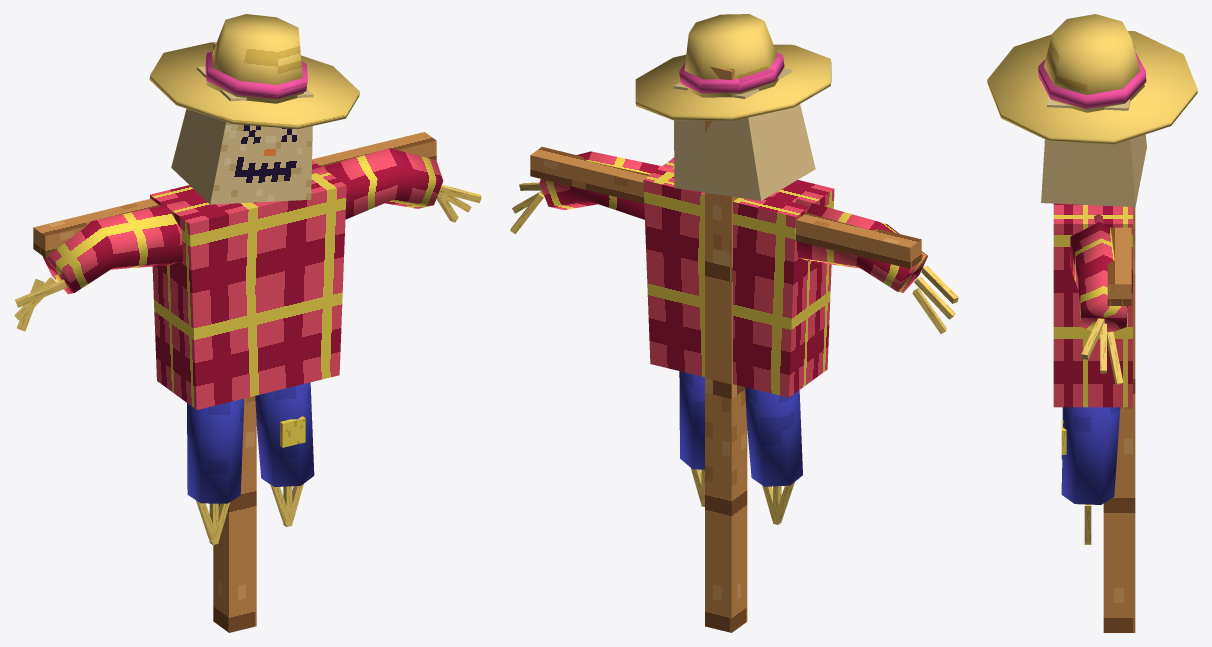
File: Scarecrow.fbx
3 renders of one model, left to right at view 1: azimuth 30°, elevation 25°; view 2: azimuth 150°, elevation 25°; view 3: azimuth 270°, elevation 25°, orthographic. The views are drawn at different scales.
Visible parts, largest first — view 1: Scarecrow shirt, Scarecrow head.001, Scarecrow brim, Scarecrow sleeve -1, Scarecrow post, Scarecrow crown, Scarecrow sleeve 1, Scarecrow leg -1, Scarecrow leg 1, Scarecrow bar, Scarecrow band, Scarecrow patch; view 2: Scarecrow shirt, Scarecrow post, Scarecrow head.001, Scarecrow bar, Scarecrow brim, Scarecrow crown, Scarecrow leg -1, Scarecrow sleeve -1, Scarecrow sleeve 1, Scarecrow leg 1, Scarecrow band; view 3: Scarecrow brim, Scarecrow shirt, Scarecrow post, Scarecrow head.001, Scarecrow crown, Scarecrow leg 1, Scarecrow sleeve 1, Scarecrow band, Scarecrow bar, Scarecrow straw hand 1 2, Scarecrow straw hand 1 0, Scarecrow straw hand 1 1 (+1 smaller).
Part boxes in pixels (bbox=[...]): Scarecrow shirt: bbox=[150, 160, 346, 409]; Scarecrow head.001: bbox=[171, 66, 313, 204]; Scarecrow brim: bbox=[149, 42, 359, 129]; Scarecrow sleeve -1: bbox=[42, 201, 184, 294]; Scarecrow post: bbox=[213, 42, 256, 632]; Scarecrow crown: bbox=[206, 14, 303, 103]; Scarecrow sleeve 1: bbox=[311, 148, 443, 219]; Scarecrow leg -1: bbox=[187, 398, 244, 503]; Scarecrow leg 1: bbox=[255, 382, 314, 486]; Scarecrow bar: bbox=[33, 132, 436, 257]; Scarecrow band: bbox=[205, 51, 307, 99]; Scarecrow patch: bbox=[280, 416, 305, 447]; Scarecrow shirt: bbox=[643, 157, 834, 397]; Scarecrow post: bbox=[705, 66, 747, 632]; Scarecrow head.001: bbox=[673, 68, 815, 200]; Scarecrow bar: bbox=[530, 147, 921, 268]; Scarecrow brim: bbox=[635, 44, 831, 120]; Scarecrow crown: bbox=[683, 14, 782, 97]; Scarecrow leg -1: bbox=[745, 387, 802, 486]; Scarecrow sleeve -1: bbox=[795, 199, 927, 292]; Scarecrow sleeve 1: bbox=[539, 151, 674, 219]; Scarecrow leg 1: bbox=[679, 371, 704, 469]; Scarecrow band: bbox=[679, 52, 784, 93]; Scarecrow brim: bbox=[987, 31, 1197, 144]; Scarecrow shirt: bbox=[1053, 203, 1132, 407]; Scarecrow post: bbox=[1103, 45, 1135, 632]; Scarecrow head.001: bbox=[1041, 96, 1146, 207]; Scarecrow crown: bbox=[1040, 14, 1144, 112]; Scarecrow leg 1: bbox=[1061, 407, 1120, 504]; Scarecrow sleeve 1: bbox=[1070, 214, 1127, 332]; Scarecrow band: bbox=[1038, 52, 1146, 108]; Scarecrow bar: bbox=[1107, 227, 1131, 305]; Scarecrow straw hand 1 2: bbox=[1107, 331, 1123, 384]; Scarecrow straw hand 1 0: bbox=[1081, 318, 1104, 359]; Scarecrow straw hand 1 1: bbox=[1100, 323, 1106, 373].
Bounding box in the file's own units: 1.99 × 2.52 × 0.7959.
8 materials, 8 textured.
